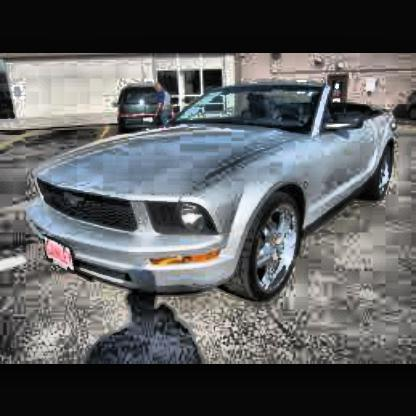Ford Mustang Convertible 2007: (26, 82, 400, 308)
